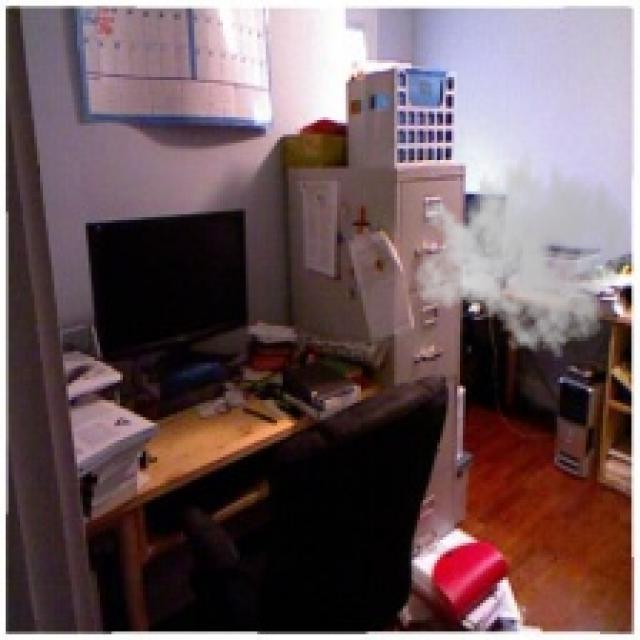Smoke: (414, 137, 634, 360)
